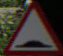Speed Breaker ahead: (7, 5, 55, 50)
